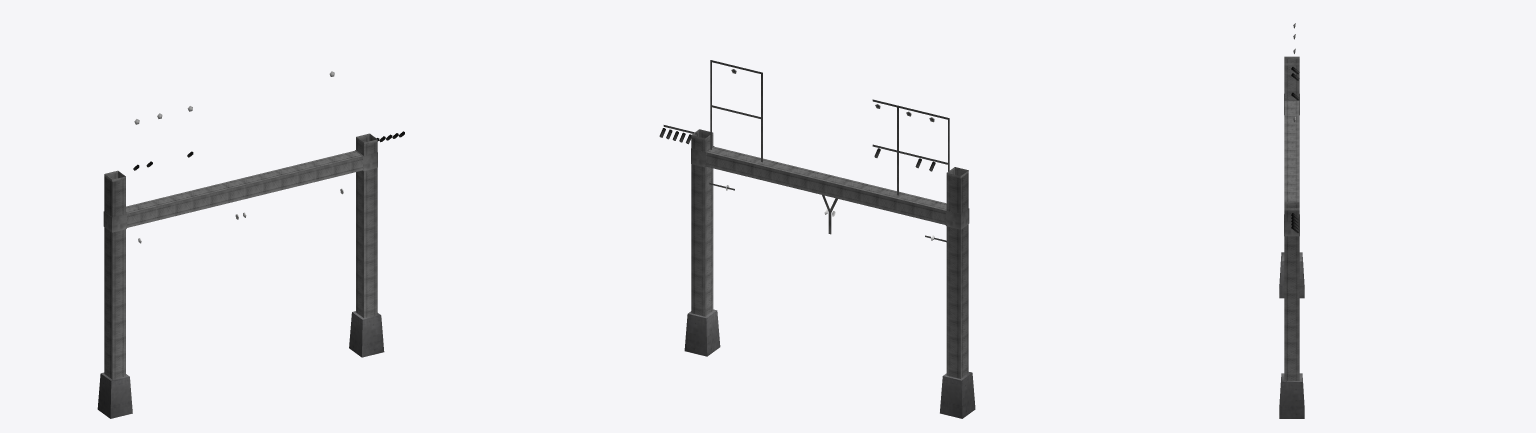
File: AMB_KASENCHU_MEI00.glb
3 views of the same model, side by side, from view 1: azimuth 30°, elevation 25°; view 2: azimuth 150°, elevation 25°; view 3: azimuth 270°, elevation 25° (orthographic). The views are drawn at different scales.
Visible parts, largest first — view 1: Right, Left, Nobi; view 2: Right, Left, Nobi; view 3: Left, Nobi, Right.
Part boxes in pixels (x1,y1,x2,y2): Right: [97, 106, 193, 418]; Left: [329, 71, 404, 357]; Nobi: [126, 150, 362, 227]; Right: [872, 99, 975, 418]; Left: [659, 60, 762, 356]; Nobi: [706, 146, 946, 224]; Left: [1279, 117, 1304, 418]; Nobi: [1284, 101, 1299, 201]; Right: [1279, 23, 1304, 298].
Bounding box in the file's own units: 39.05 × 35.36 × 50.18.
Materials: 22 (22 with a texture image).
